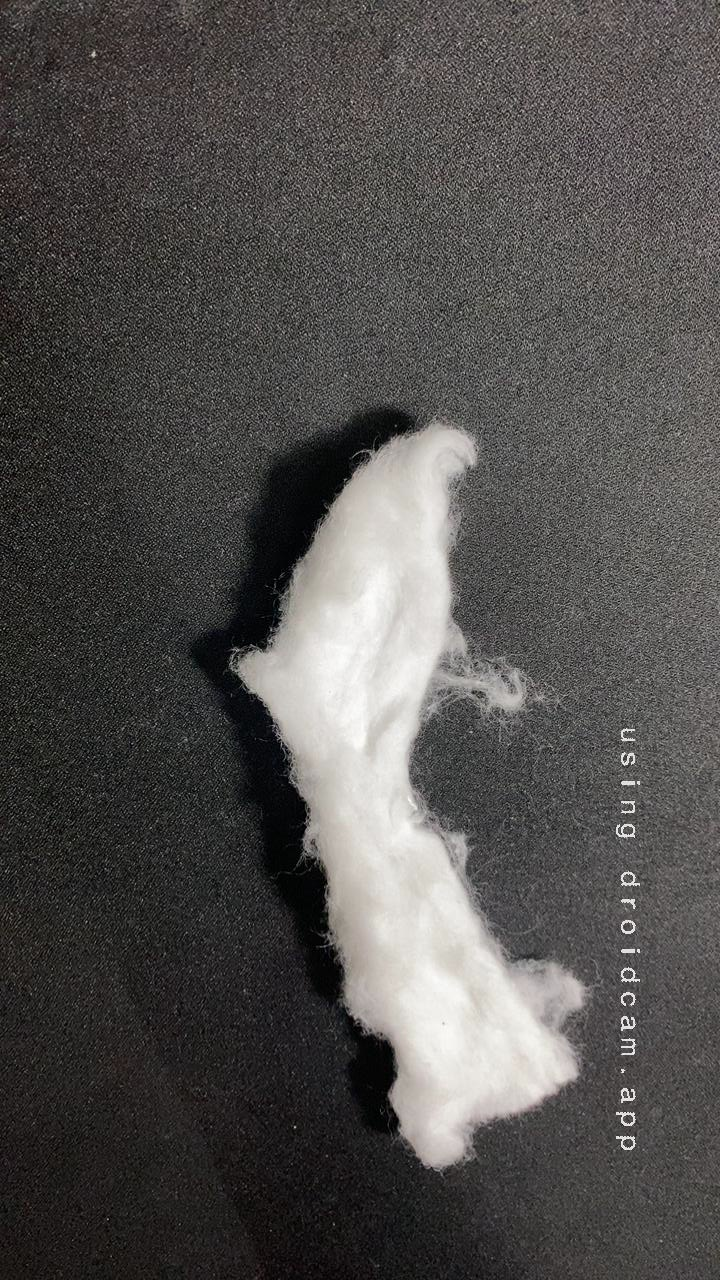cotton: (195, 388, 642, 1242)
